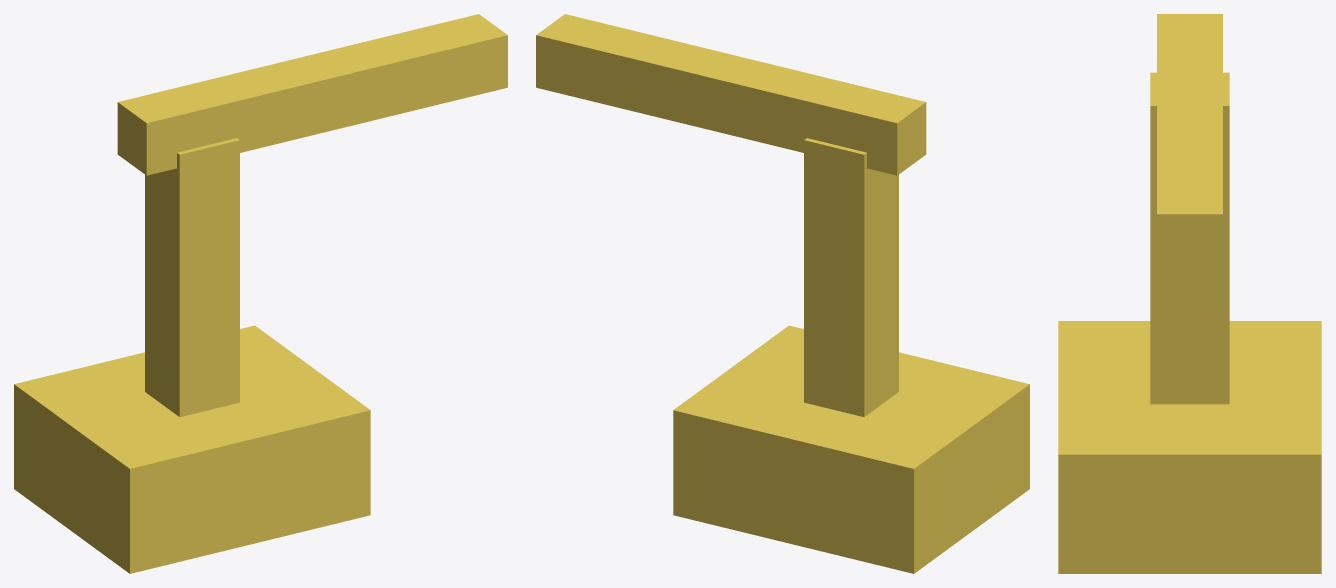
Rendered from mobile_harbor_crane.glb.
3 renders of one model, left to right at view 1: azimuth 30°, elevation 25°; view 2: azimuth 150°, elevation 25°; view 3: azimuth 270°, elevation 25°, orthographic. The views are drawn at different scales.
Parts seen in each view (by area): view 1: cranebase, cranearm, cranemast; view 2: cranebase, cranearm, cranemast; view 3: cranebase, cranearm, cranemast.
Boxes of the visible parts, bbox=[...] form: cranebase: bbox=[14, 325, 370, 573]; cranearm: bbox=[117, 14, 507, 175]; cranemast: bbox=[145, 138, 239, 416]; cranebase: bbox=[673, 325, 1029, 573]; cranearm: bbox=[536, 14, 926, 175]; cranemast: bbox=[804, 138, 898, 416]; cranebase: bbox=[1058, 321, 1321, 573]; cranearm: bbox=[1157, 14, 1222, 273]; cranemast: bbox=[1150, 72, 1229, 404].
Size of the model in its own units: 4.2 by 3.85 by 2.
